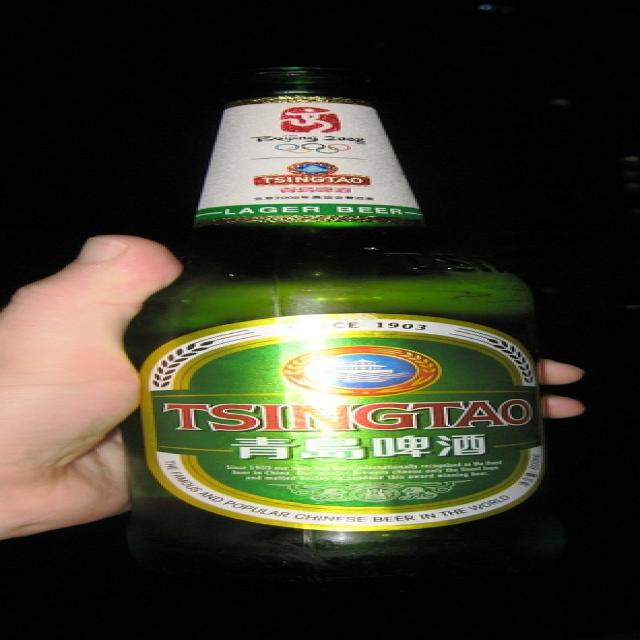tsingtao: (140, 313, 553, 533)
